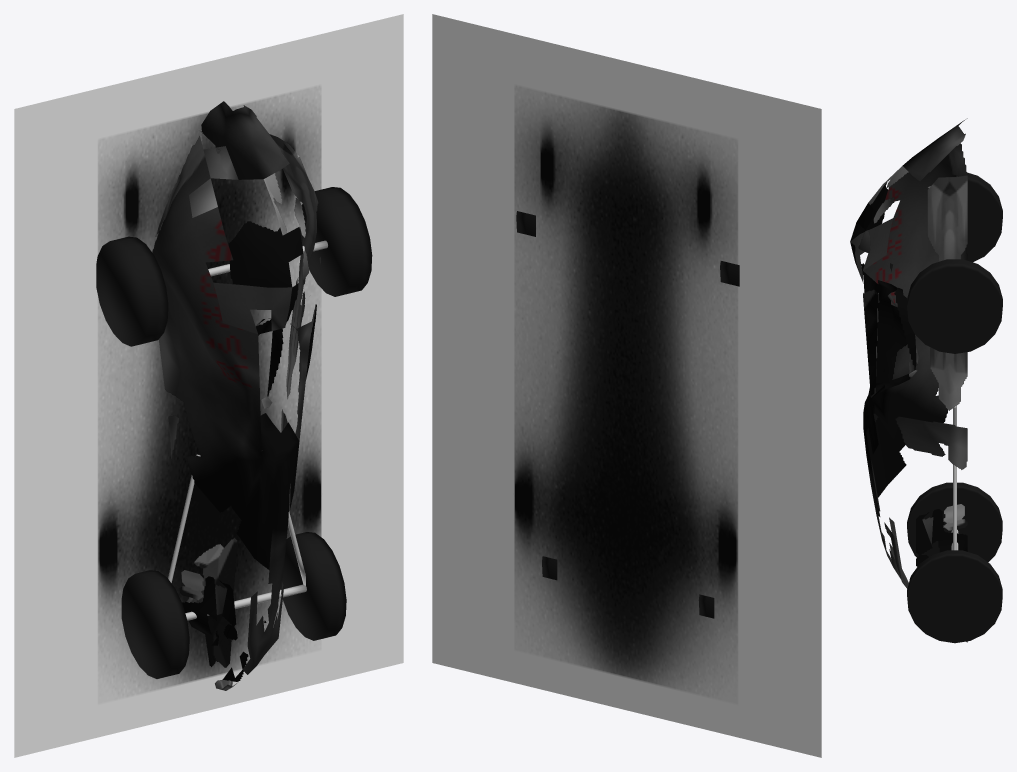
File: karka2.obj
3 views of the same model, side by side, from view 1: azimuth 30°, elevation 25°; view 2: azimuth 150°, elevation 25°; view 3: azimuth 270°, elevation 25° (orthographic). The views are drawn at different scales.
Parts seen in each view (by area): view 1: 13_-_Default, 08_-_Default, 09_-_Default, 10_-_Default; view 2: 13_-_Default, 09_-_Default; view 3: 08_-_Default, 09_-_Default, 10_-_Default.
Part boxes in pixels (<box>): 13_-_Default: <box>14,14,403,757</box>; 08_-_Default: <box>152,101,320,690</box>; 09_-_Default: <box>96,187,372,678</box>; 10_-_Default: <box>168,240,327,620</box>; 13_-_Default: <box>432,14,821,757</box>; 09_-_Default: <box>516,211,739,618</box>; 08_-_Default: <box>850,118,967,642</box>; 09_-_Default: <box>907,173,1002,643</box>; 10_-_Default: <box>951,406,958,550</box>.
Bounding box in the file's own units: 79.63 × 127 × 30.49.
Materials: 4 (2 with a texture image).
